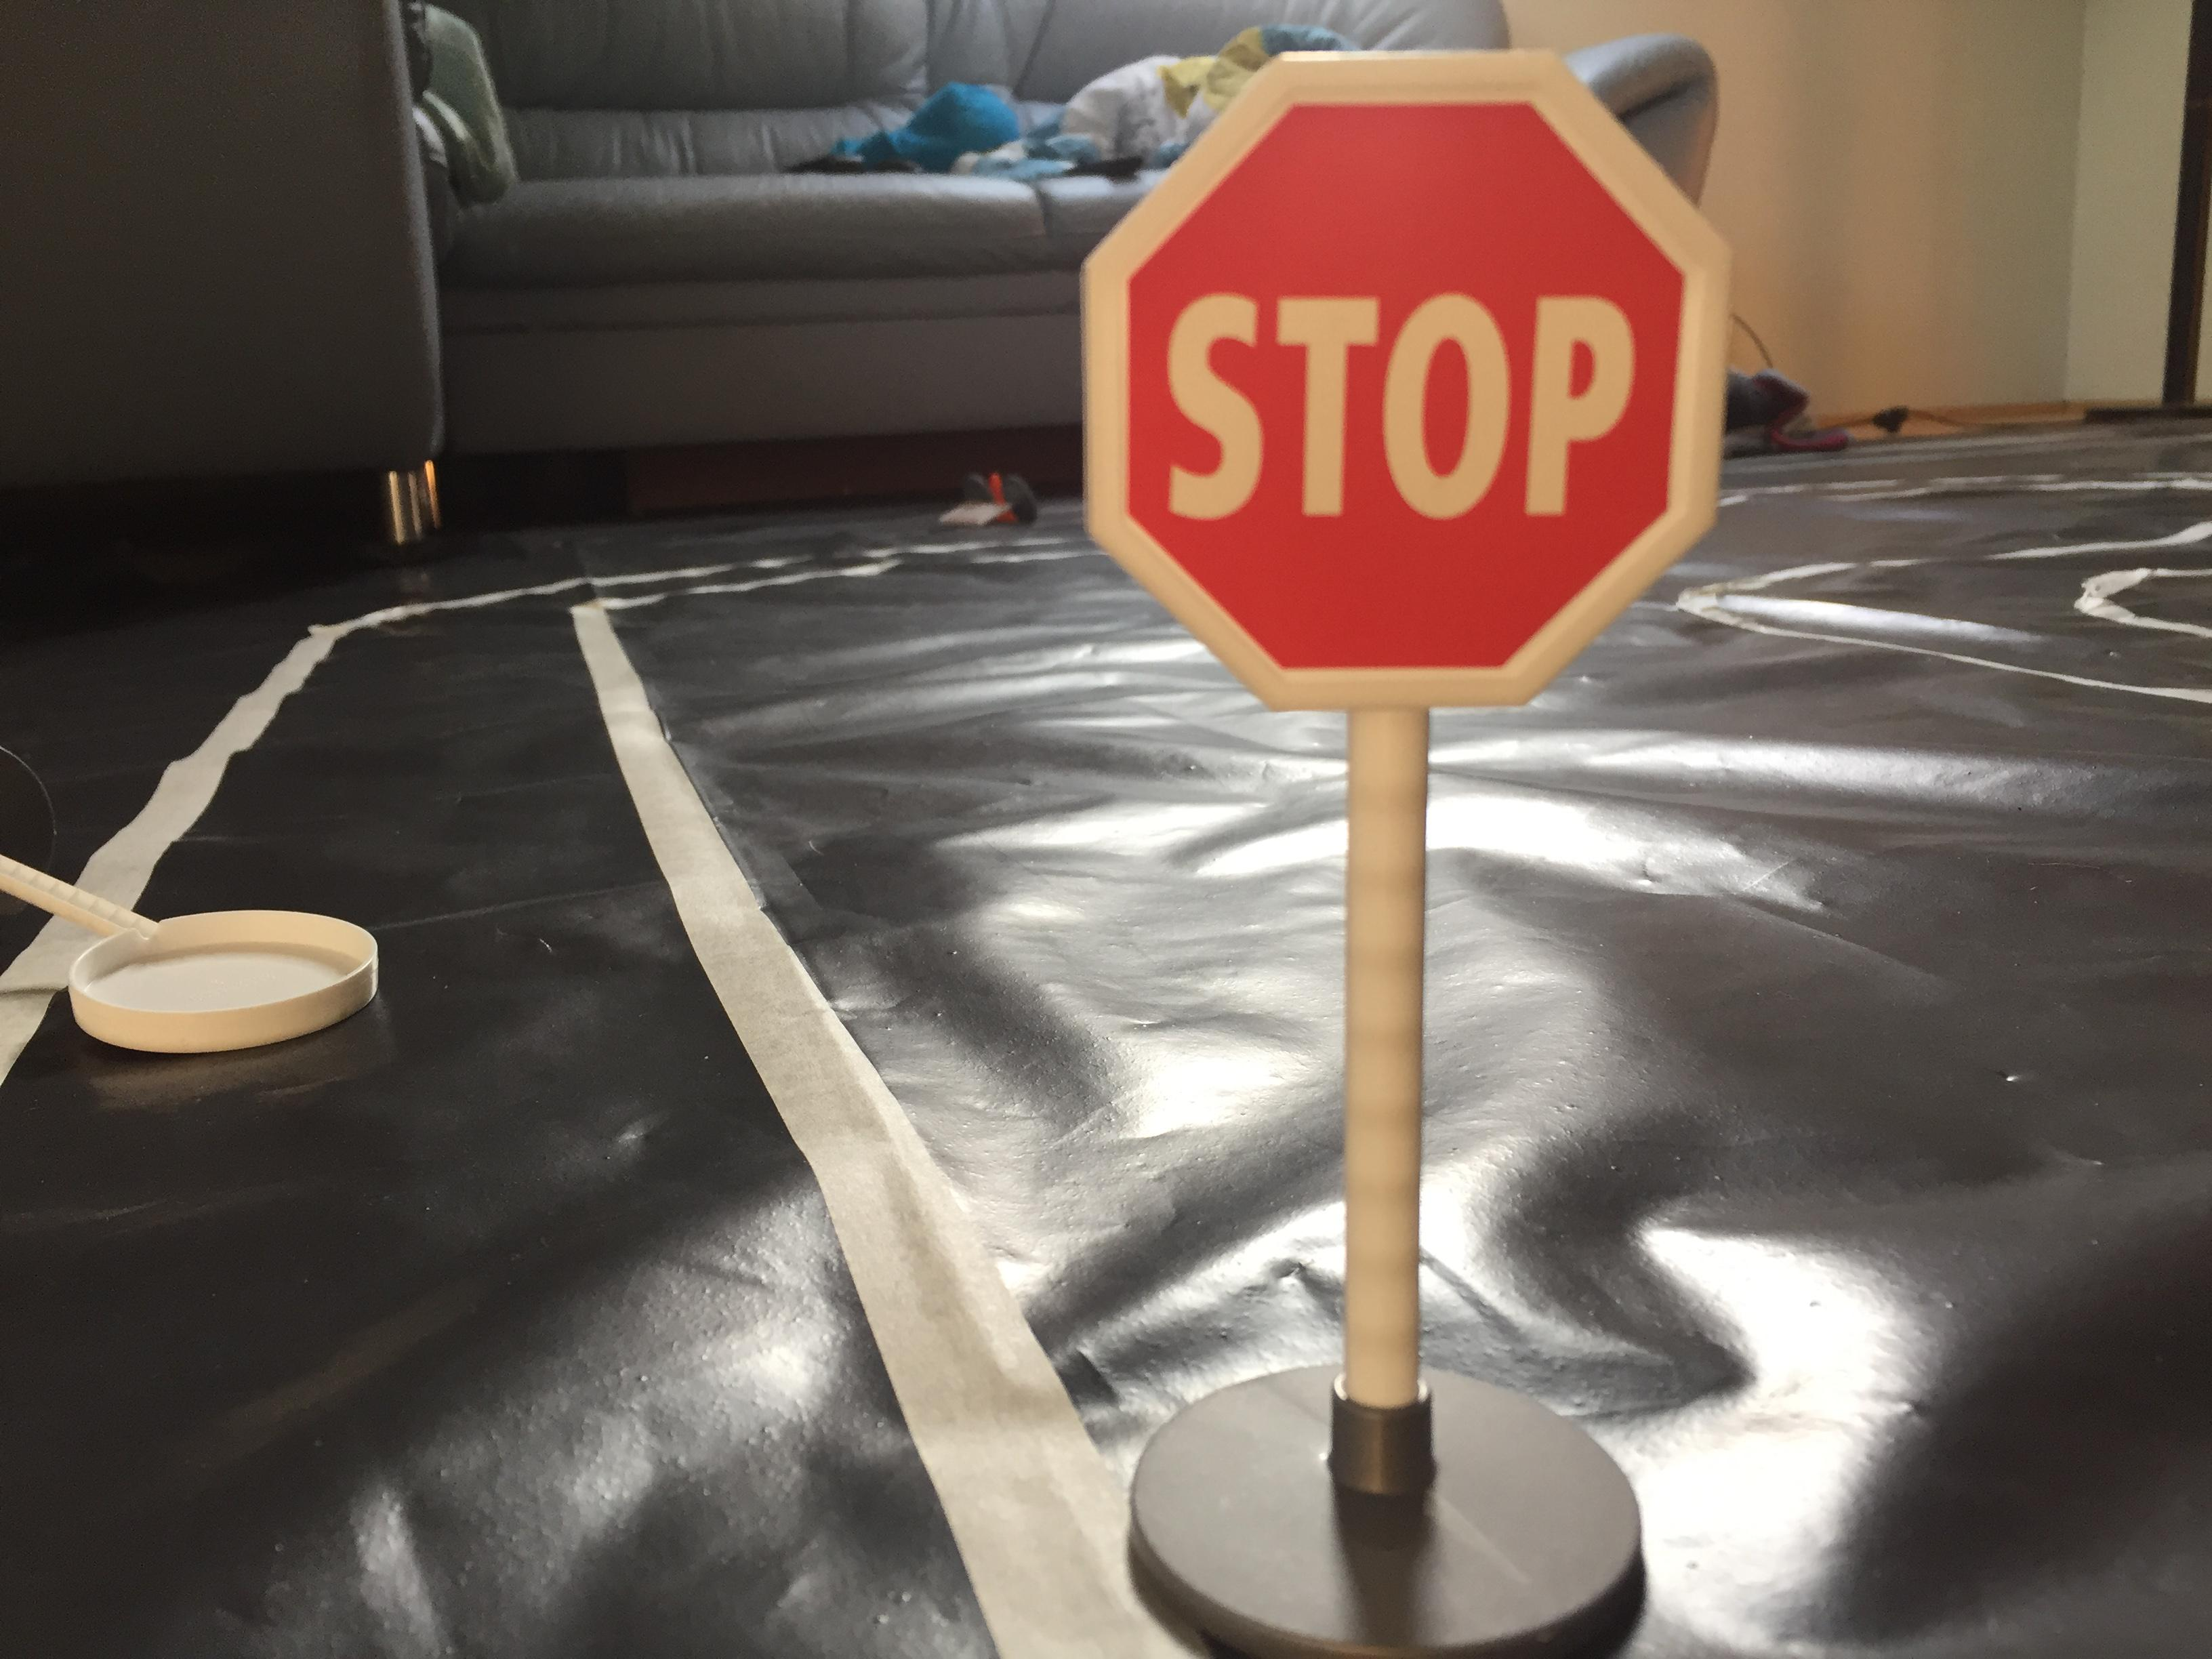stop: (1061, 44, 1757, 723)
